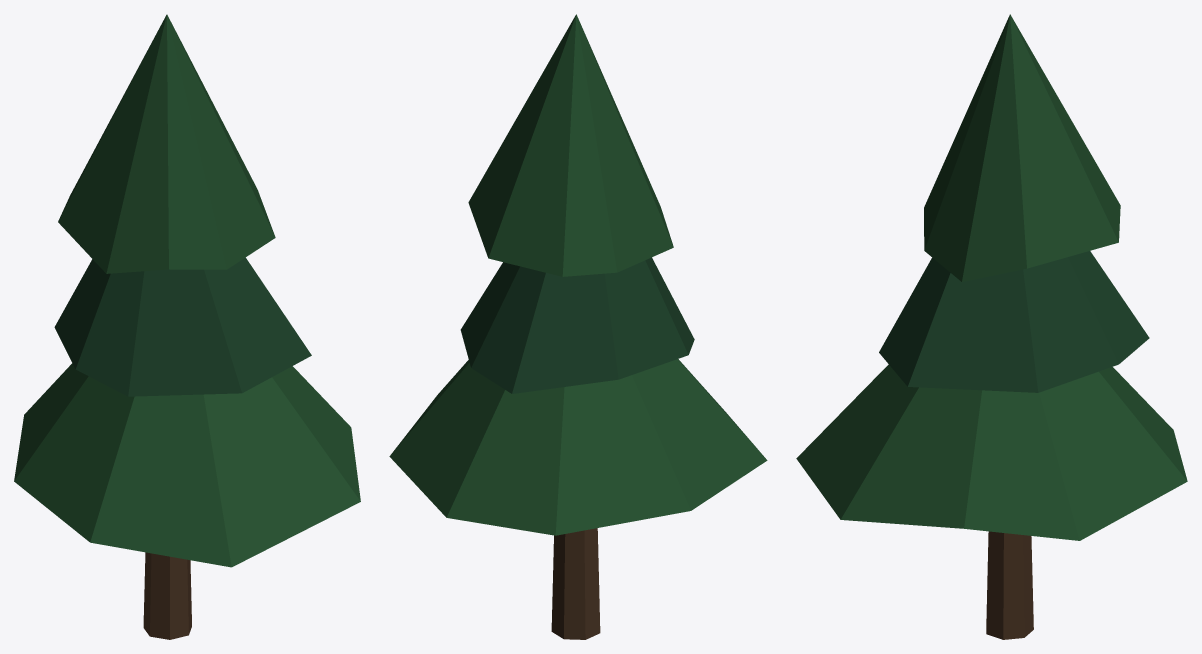
The model's file is pine_small.glb.
The picture shows the model from 3 angles, left to right: view 1: azimuth 30°, elevation 25°; view 2: azimuth 150°, elevation 25°; view 3: azimuth 270°, elevation 25°; orthographic projection.
Parts seen in each view (by area): view 1: pine_small; view 2: pine_small; view 3: pine_small.
Part boxes in pixels (x1=…): pine_small: x1=14, y1=14, x2=360, y2=639; pine_small: x1=389, y1=14, x2=767, y2=639; pine_small: x1=796, y1=14, x2=1187, y2=639.
Size of the model in its own units: 3.6 by 7.17 by 4.13.
